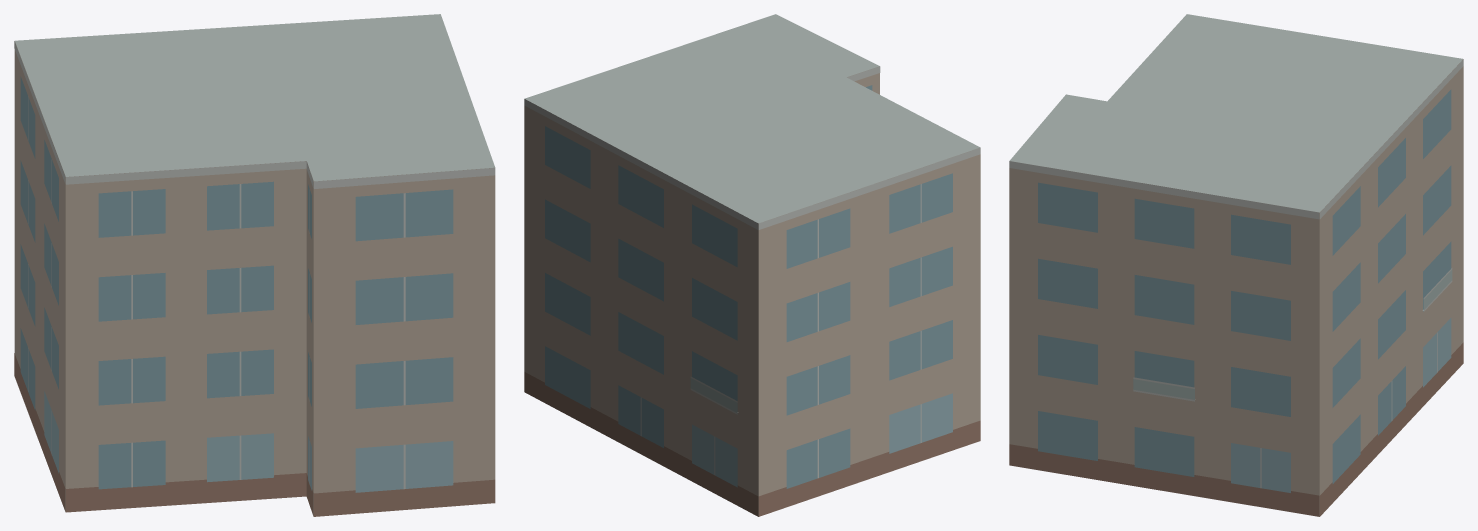
The model's file is survey-upis-32581773.glb.
3 views of the same model, side by side, from view 1: azimuth 30°, elevation 25°; view 2: azimuth 150°, elevation 25°; view 3: azimuth 270°, elevation 25° (orthographic). The views are drawn at different scales.
Parts seen in each view (by area): view 1: survey-upis-32581773.tmp; view 2: survey-upis-32581773.tmp; view 3: survey-upis-32581773.tmp.
Boxes of the visible parts, x1,y1,x2,y2 form: survey-upis-32581773.tmp: (14, 14, 495, 516); survey-upis-32581773.tmp: (524, 14, 980, 516); survey-upis-32581773.tmp: (1009, 14, 1463, 516).
Bounding box in the file's own units: 14.83 × 10.6 × 14.35.
